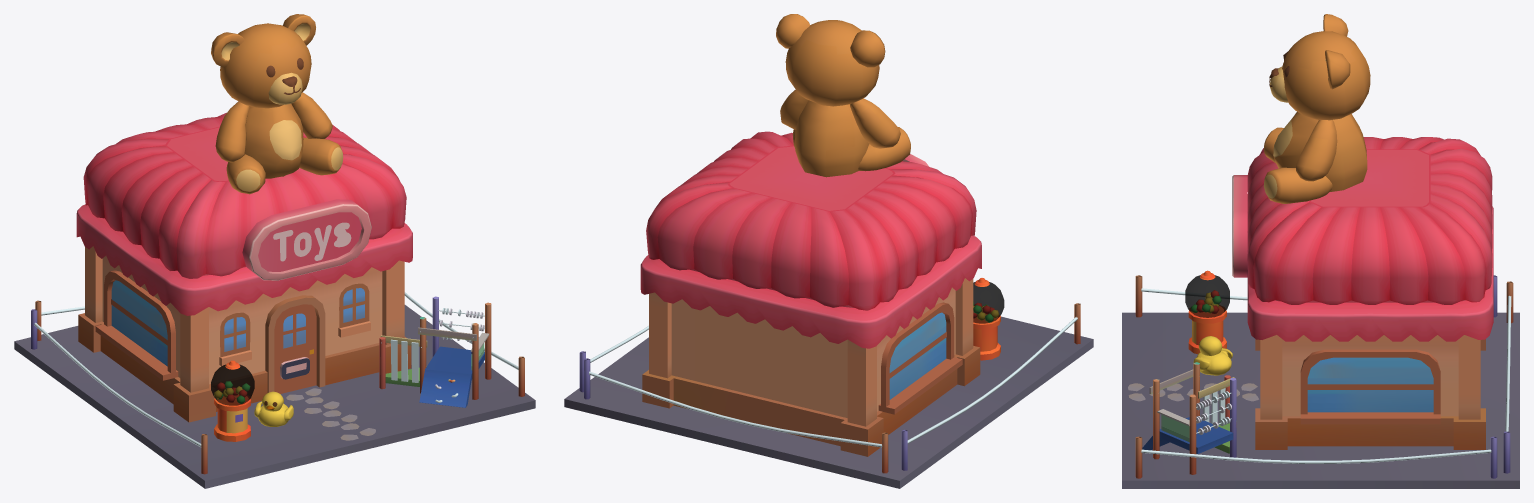
File: ToyShop.fbx
3 renders of one model, left to right at view 1: azimuth 30°, elevation 25°; view 2: azimuth 150°, elevation 25°; view 3: azimuth 270°, elevation 25°, orthographic. The views are drawn at different scales.
Visible parts, largest first — view 1: ToyShop; view 2: ToyShop; view 3: ToyShop.
Part boxes in pixels (x1,y1,x2,y2): ToyShop: [14, 14, 535, 488]; ToyShop: [564, 14, 1093, 488]; ToyShop: [1122, 14, 1519, 488].
Bounding box in the file's own units: 4 × 4.16 × 4.
